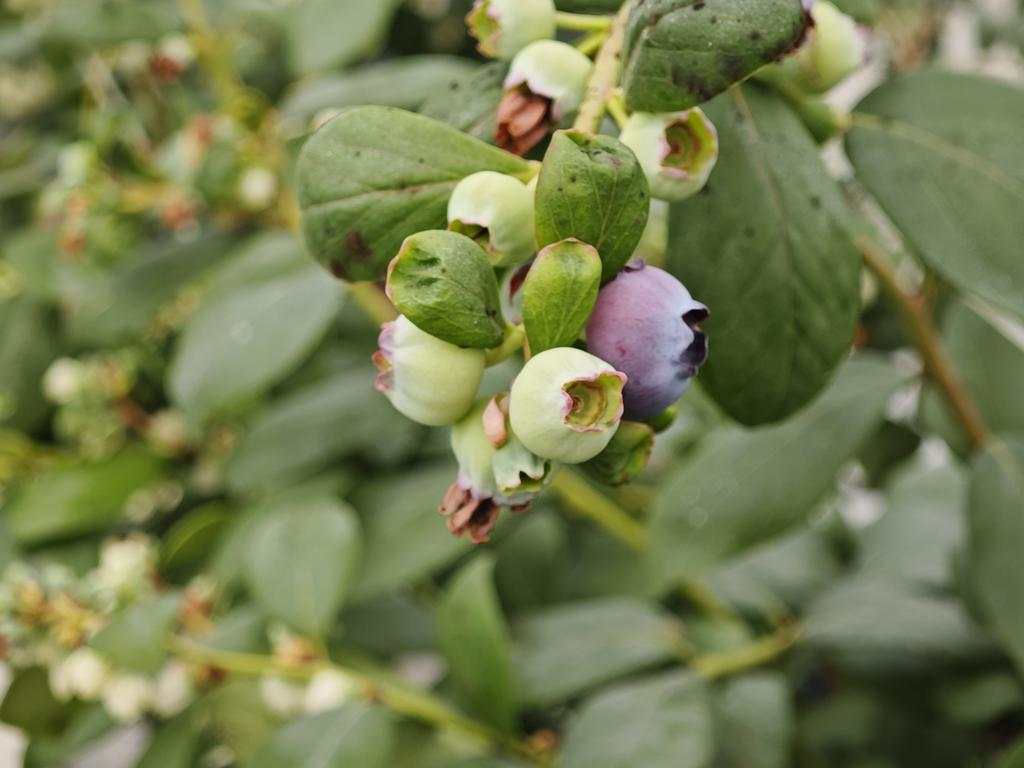Semi-RipeBlueBerry: (588, 261, 713, 415)
UnripeBlueBerry: (505, 341, 628, 467)
